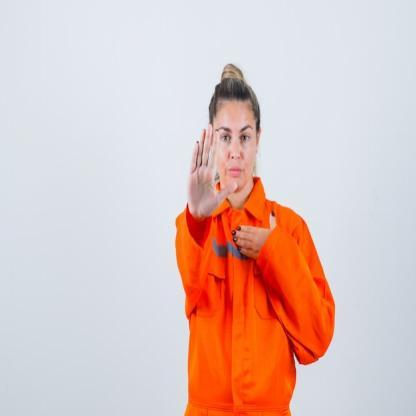stop: (186, 120, 239, 218)
